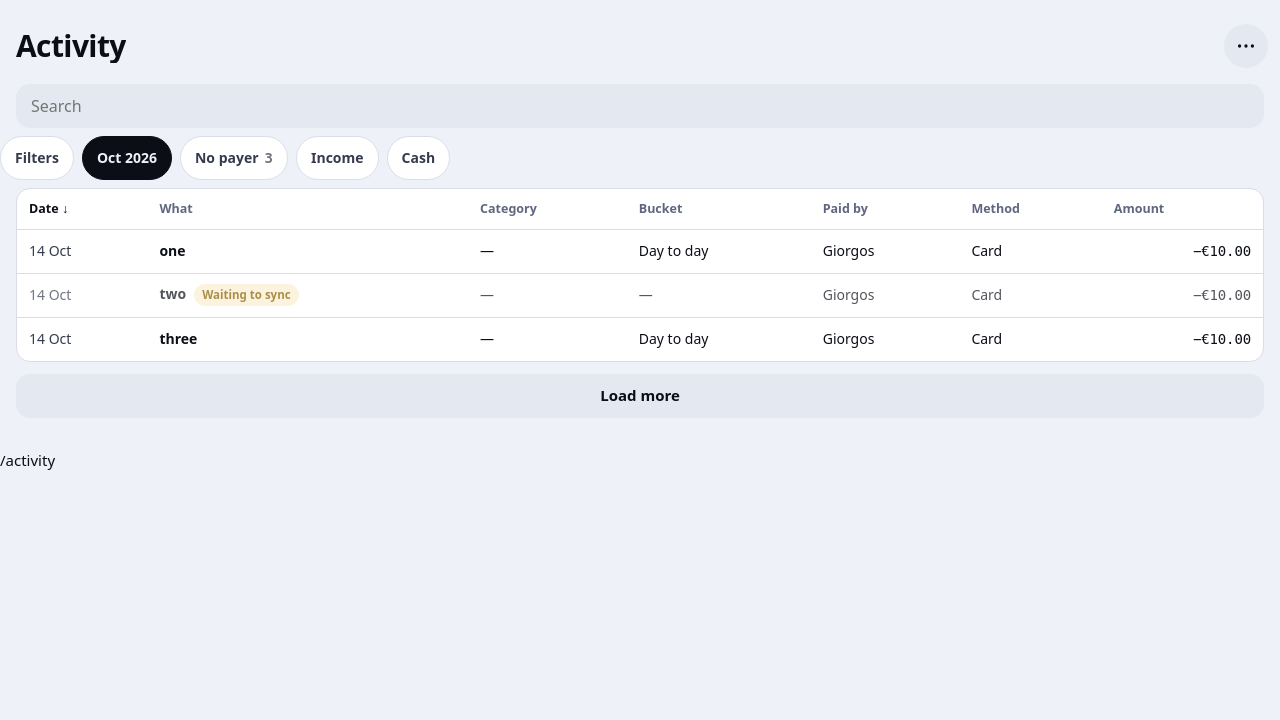
Test case: Select › All leaves out pending and mid-delete rows › with pending rows and more to load, All is off and says why
Expected: the text "Waiting to sync" is shown, [194,284,299,306]
Click the button named "More".
click(1246, 46)  # box [1224,24,1268,68]
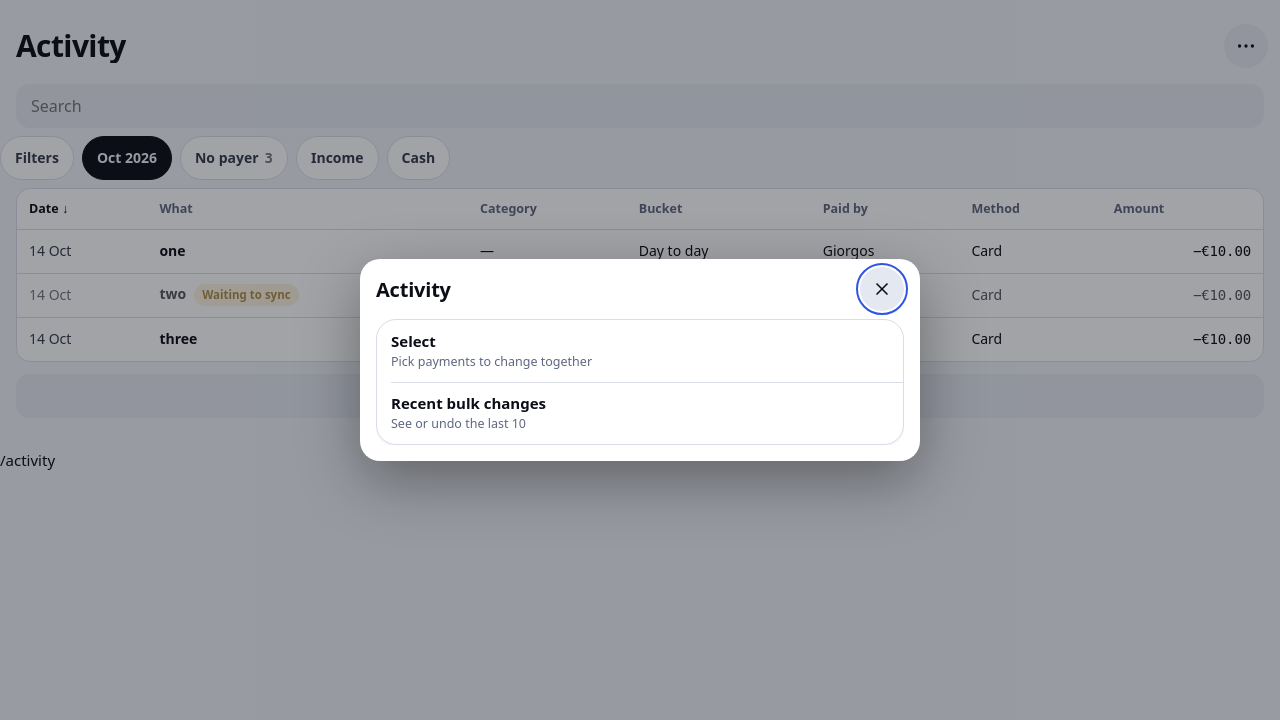
Click the button "Select Pick payments to change together".
click(413, 341)  # box [377,320,903,382]
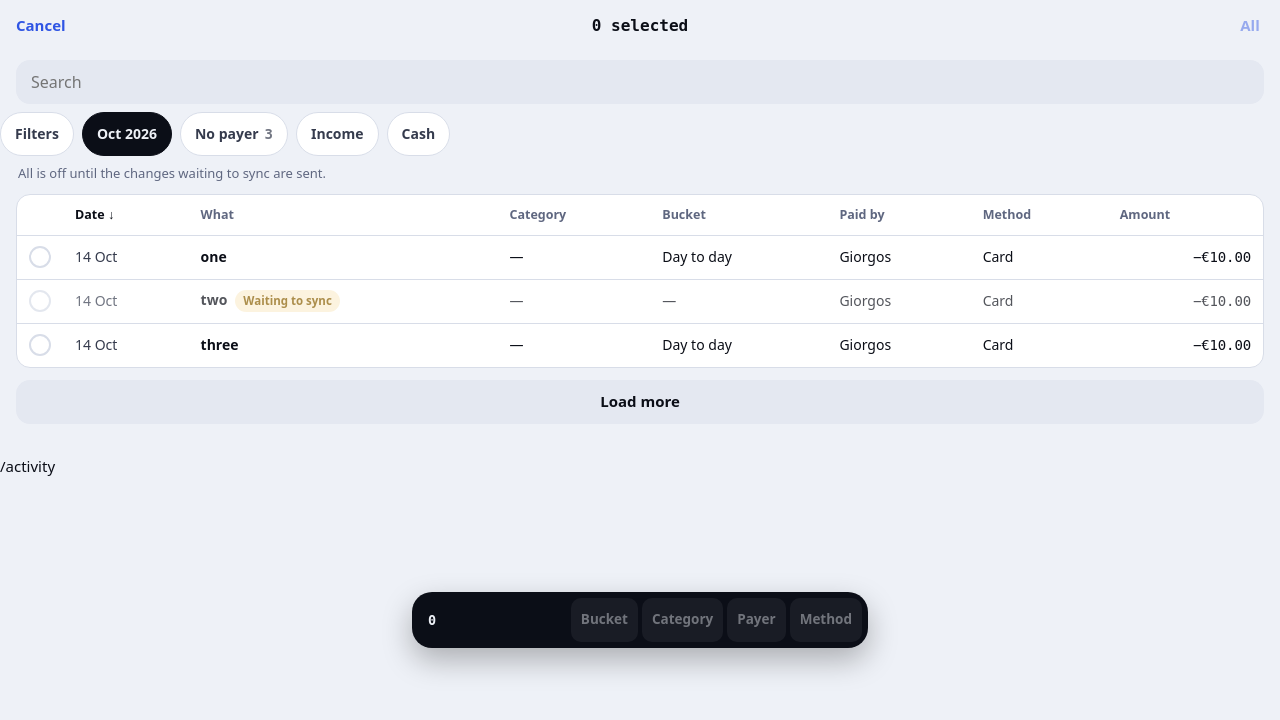
Result: the button "All" is disabled at [1228,4,1272,48]
Result: the text "All is off until the changes waiting to sync are sent." is shown at [18,164,326,182]
